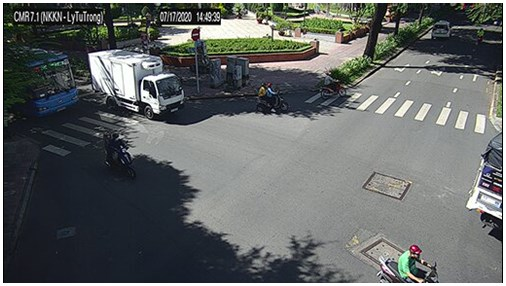xe_buyt: (17, 45, 80, 116)
xe_hoi: (432, 20, 450, 41)
xe_may: (377, 243, 439, 283), (102, 131, 138, 181), (257, 82, 289, 114), (321, 71, 347, 99), (475, 28, 485, 46)
xe_tai: (86, 49, 184, 120), (466, 132, 502, 235)
